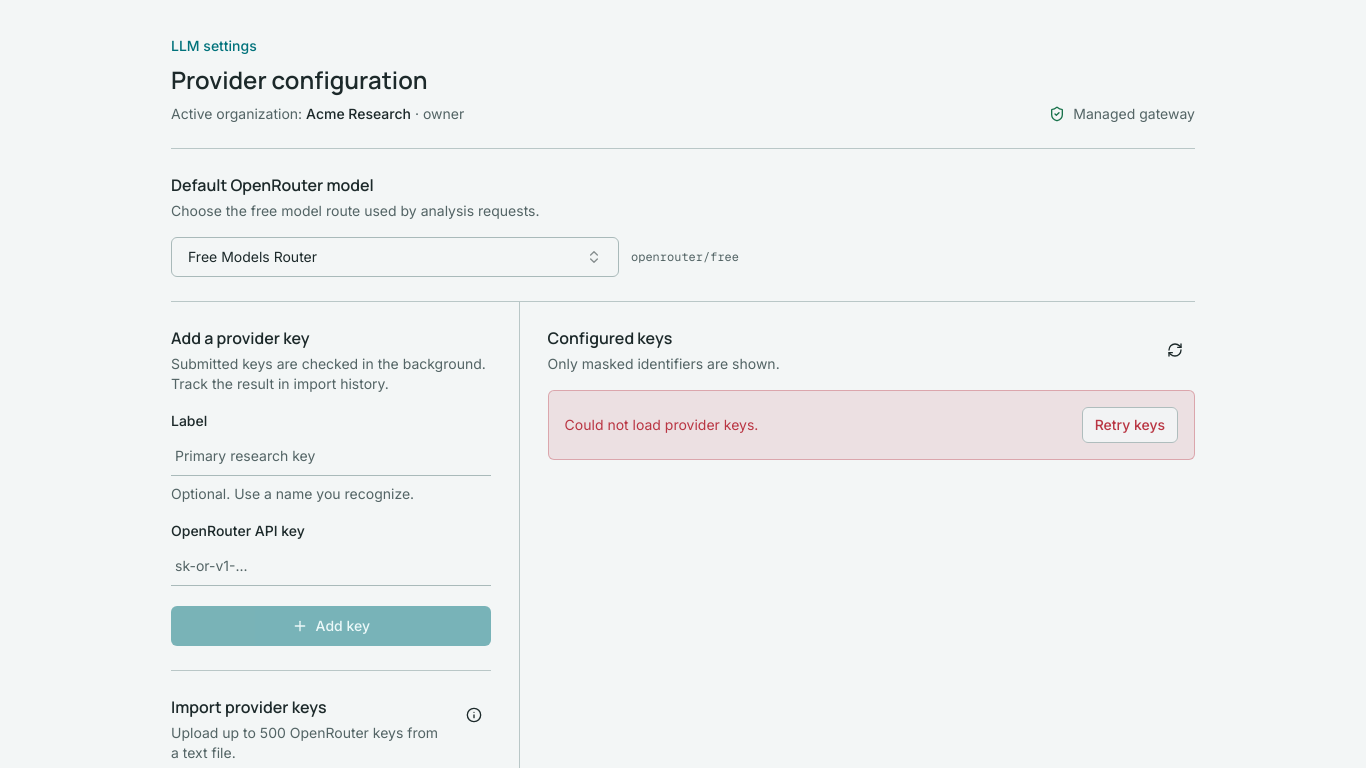
Test case: LLM settings › keeps the model catalogue available when key loading fails and retries keys independently
This screenshot has width=1366, height=768.
Expected: the text "Could not load provider keys." is shown, x1=565 y1=415 x2=758 y2=435
Expected: the dropdown named "Default OpenRouter model" is enabled, x1=171 y1=237 x2=619 y2=277
Click the button "Retry keys" at (1130, 425), box x1=1082 y1=407 x2=1178 y2=443
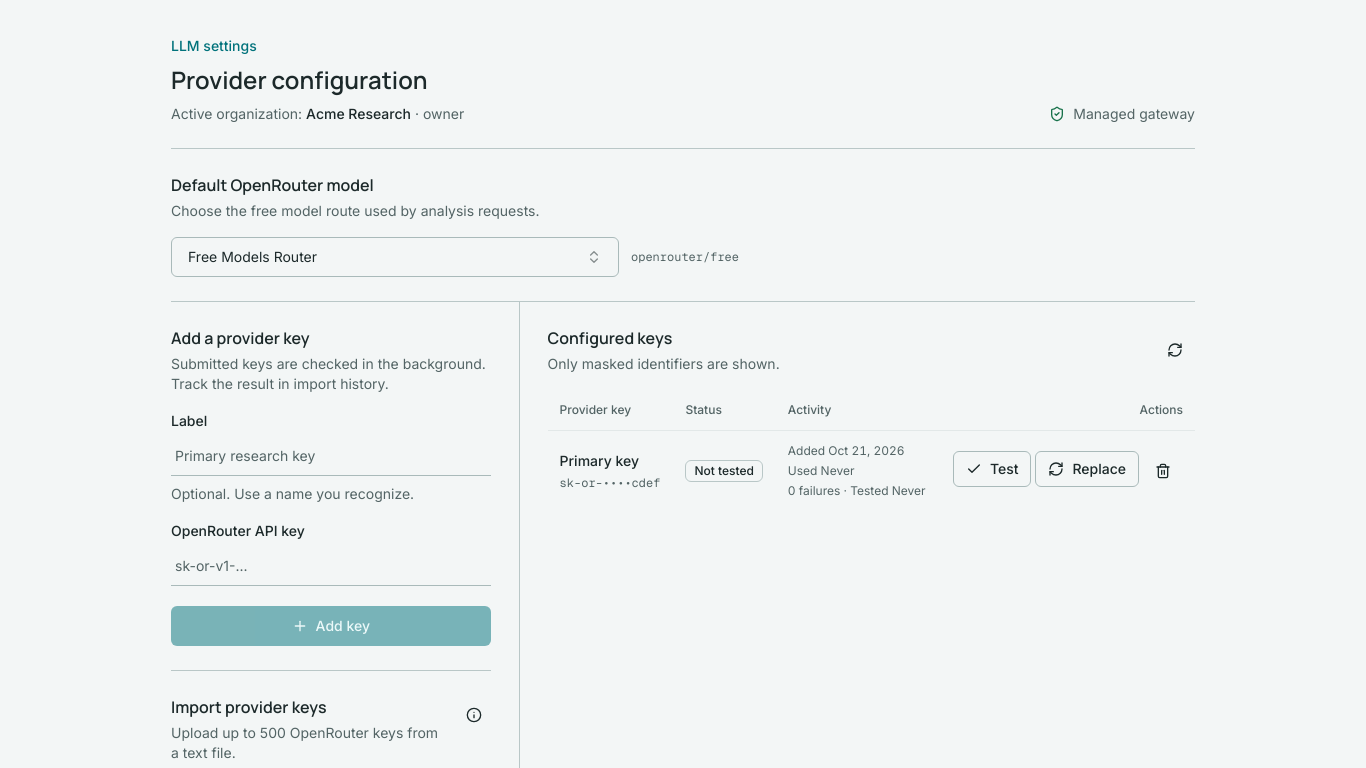
Expected: the text "Primary key" is shown, x1=560 y1=452 x2=639 y2=468
